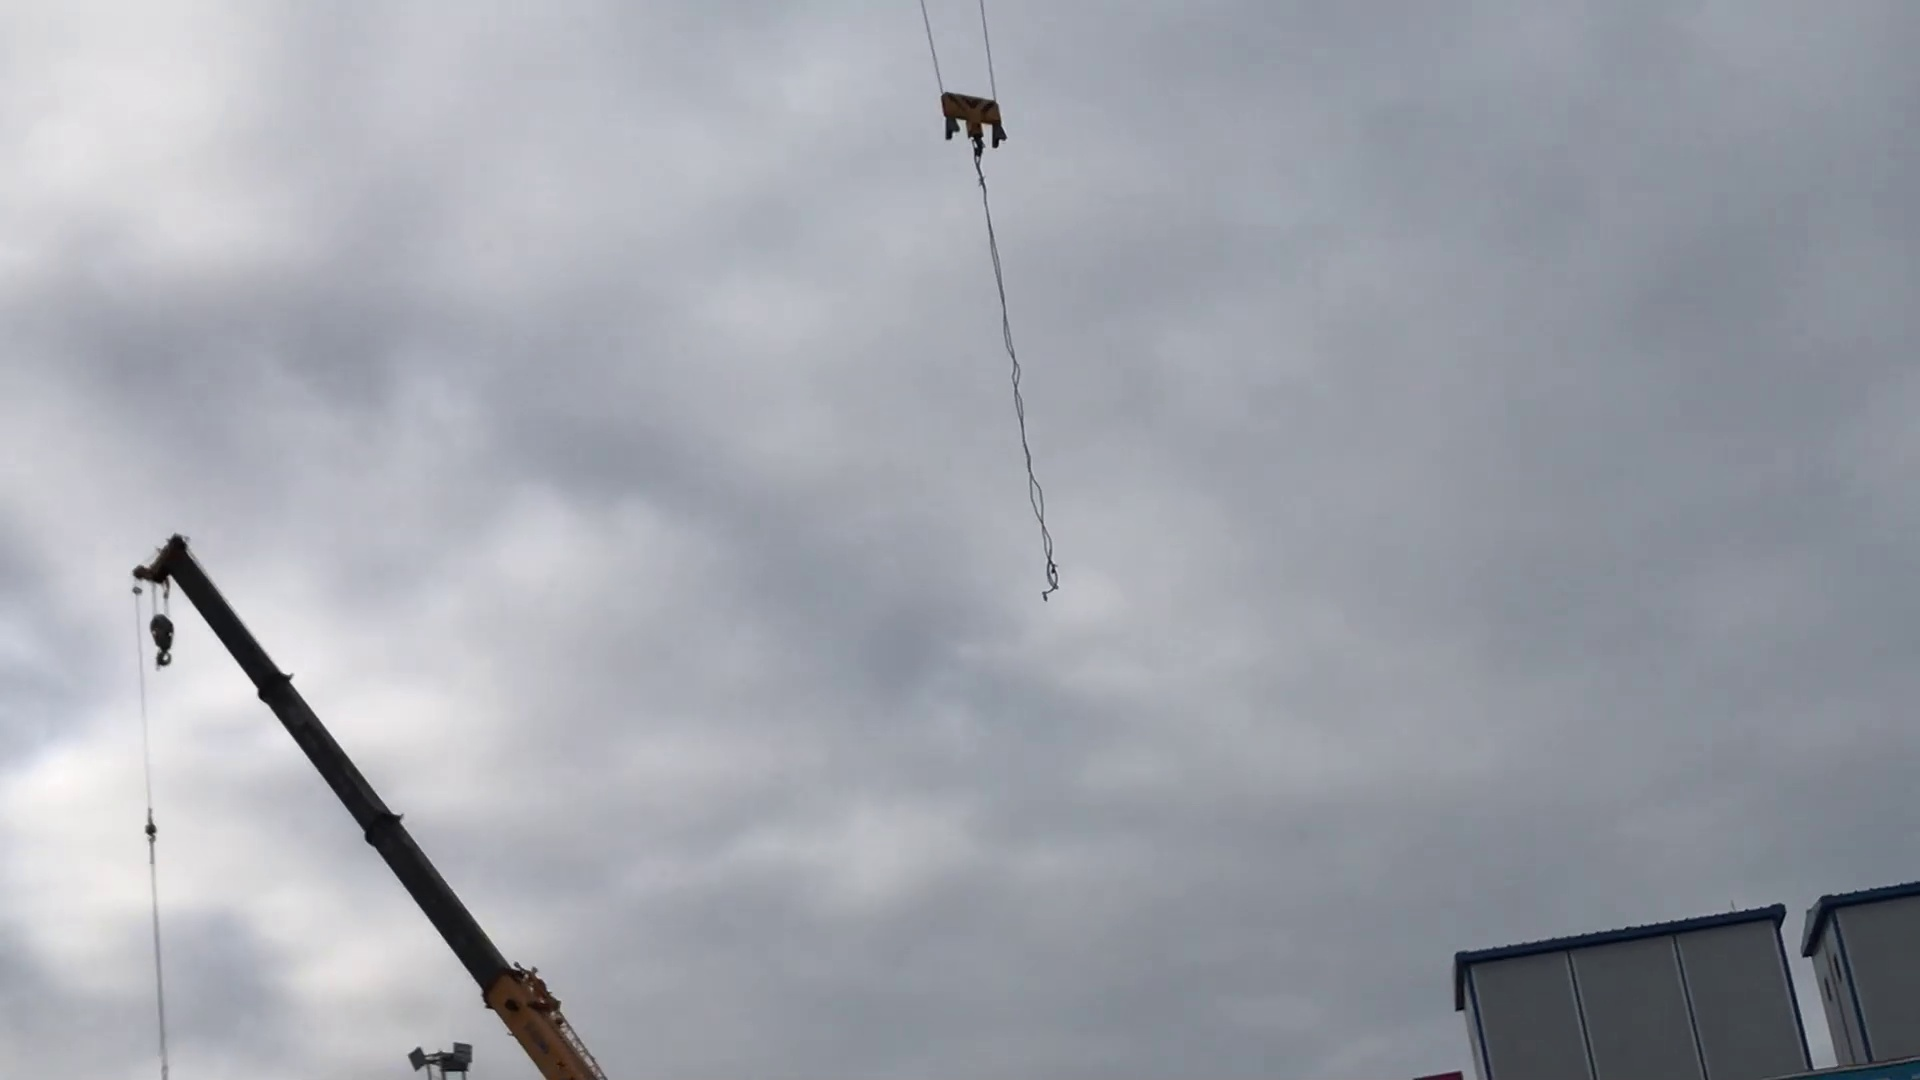hook: (936, 91, 1014, 154)
